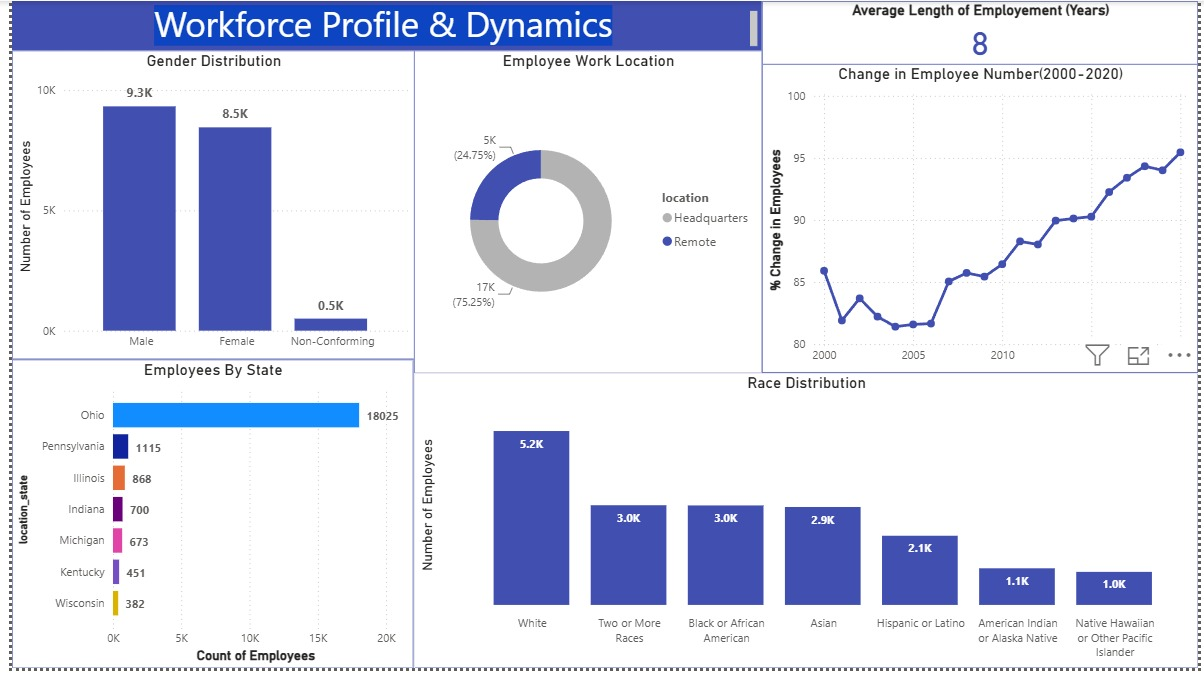

This screenshot's page, from the dashboard's own definition file:
{"tool":"powerbi","page":{"name":"Page 1","canvas":[1280,720],"ordinal":0},"visuals":[{"type":"textbox","box":[0,0,809.6,53.5],"z":0},{"type":"card","title":"Average Length of Employement (Years)","fields":{"Values":["Sum(6 avg_length_employement (2).avg_length_employement)"]},"box":[809.6,0,470.7,68.6],"z":1000},{"type":"columnChart","title":"Gender Distribution","fields":{"Category":["1 gender.gender"],"Y":["Sum(1 gender.count)"]},"box":[0,53.5,435,333.4],"z":2000},{"type":"donutChart","title":"Employee Work Location","fields":{"Y":["Sum(5 location.count)"],"Category":["5 location.location"]},"box":[433.6,53.5,376,348.5],"z":3000},{"type":"lineChart","title":"Change in Employee Number(2000-2020)","fields":{"Category":["11  emp_changes.year"],"Y":["Sum(11  emp_changes.net_change_percent)"]},"box":[809.6,68.6,470.7,333.4],"z":4000},{"type":"barChart","title":"Employees By State","fields":{"Y":["Sum(10 state_emp_distr.count)"],"Category":["10 state_emp_distr.location_state"],"Series":["10 state_emp_distr.location_state"]},"box":[0,387,433.6,333.4],"z":5000},{"type":"columnChart","title":"Race Distribution","fields":{"Category":["2 race.race"],"Y":["Sum(2 race.count)"]},"box":[433.6,402.1,846.7,318.4],"z":6000}]}

Visuals, with their boxes in screenshot pixels (x1, y1, x2, y2), scaled from the page's 1280x720 canvas onto the 1204x673 screenshot:
textbox: region(0, 0, 762, 50)
"Average Length of Employement (Years)" card: region(762, 0, 1203, 64)
"Gender Distribution" columnChart: region(0, 50, 409, 362)
"Employee Work Location" donutChart: region(408, 50, 762, 376)
"Change in Employee Number(2000-2020)" lineChart: region(762, 64, 1203, 376)
"Employees By State" barChart: region(0, 362, 408, 672)
"Race Distribution" columnChart: region(408, 376, 1203, 672)
